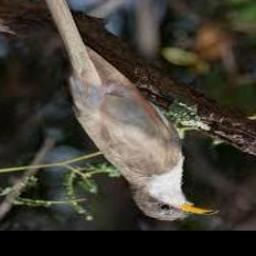Cuckoo: (34, 0, 218, 220)
